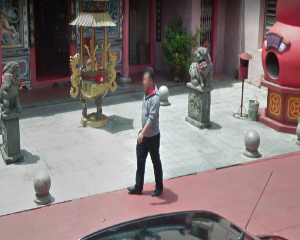stand: (127, 61, 185, 211)
